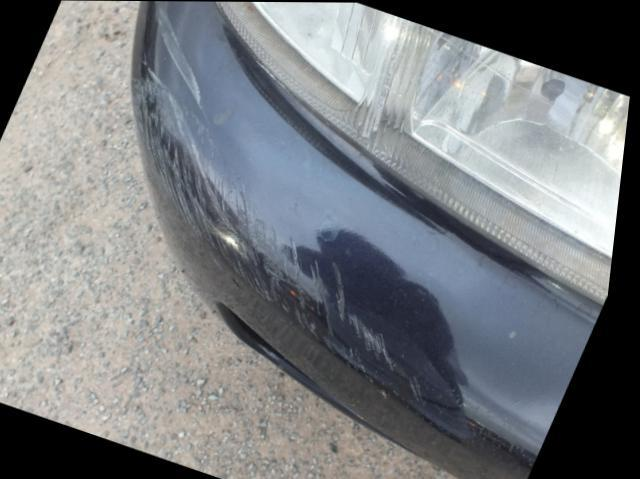scratch: (138, 1, 483, 433)
